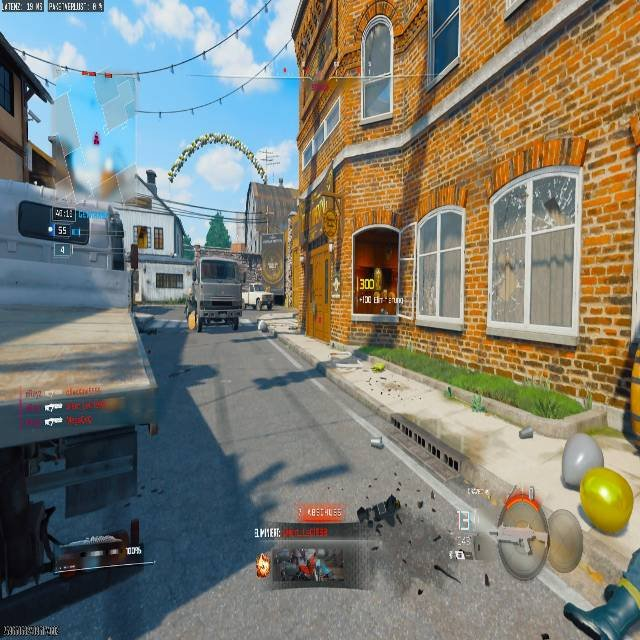player: (254, 295, 263, 311)
